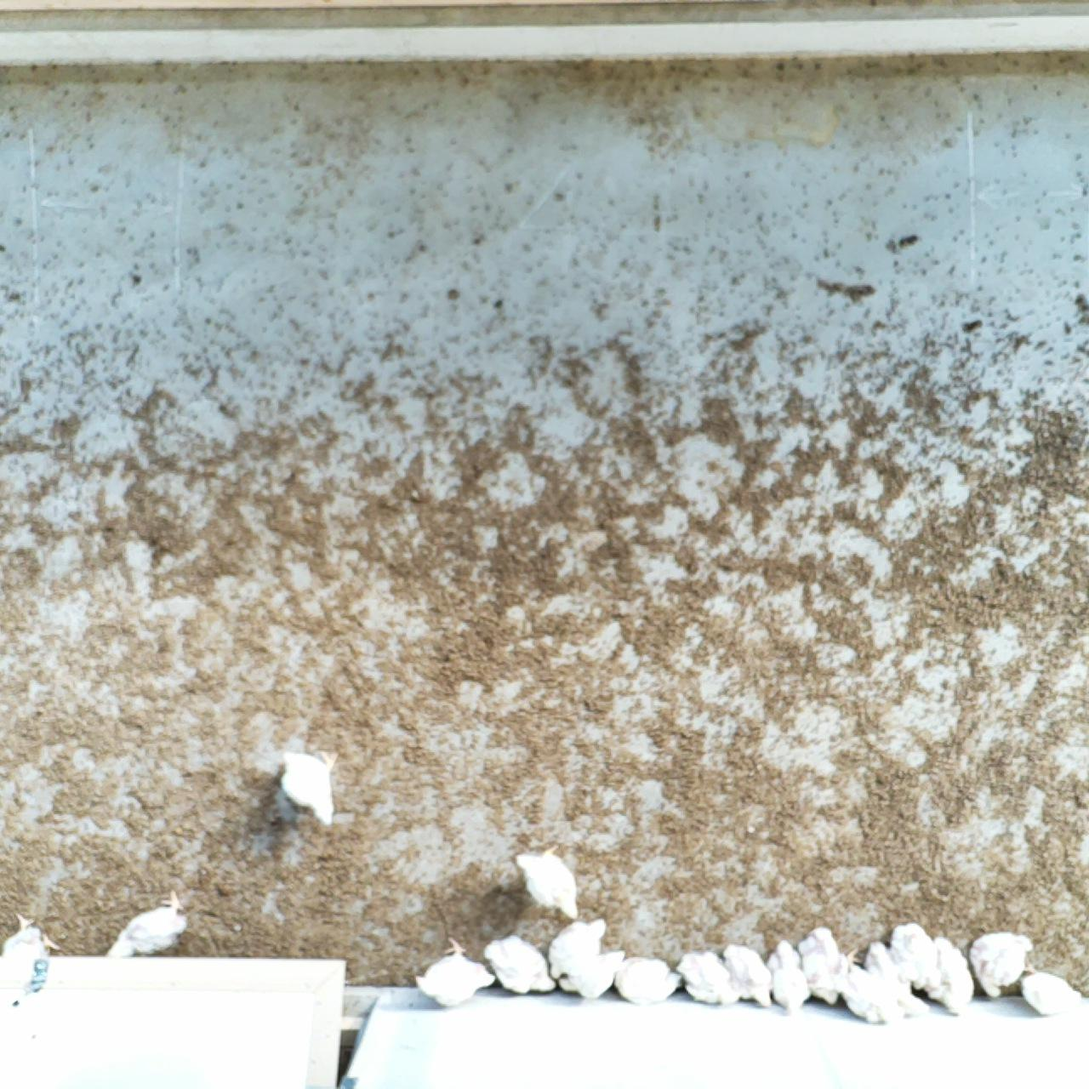chicken: (100, 889, 194, 963), (411, 933, 497, 1008), (858, 936, 930, 1019), (512, 843, 584, 921), (478, 931, 560, 999), (278, 746, 344, 830), (838, 950, 907, 1029), (965, 925, 1034, 999), (919, 932, 976, 1018), (795, 925, 851, 1008), (761, 939, 820, 1016), (887, 917, 945, 995), (1019, 963, 1089, 1026), (547, 916, 610, 984), (676, 949, 748, 1008), (554, 944, 626, 1001), (611, 953, 684, 1008), (722, 942, 777, 1010), (3, 910, 66, 965)
